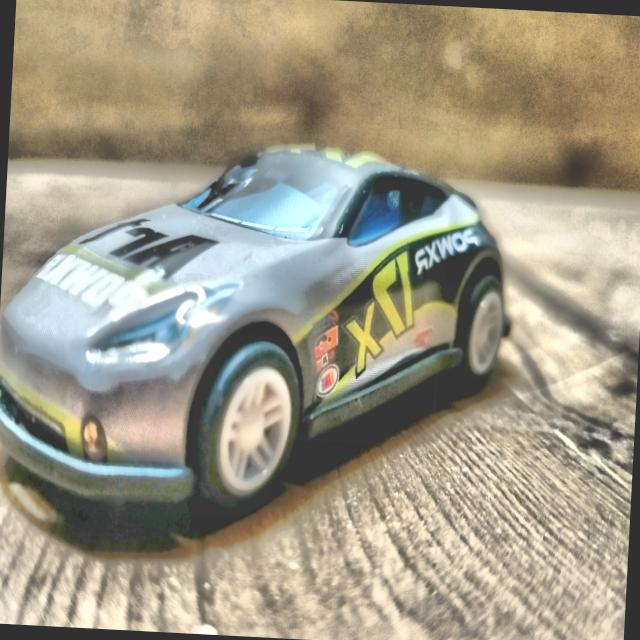Car: (0, 131, 520, 526)
